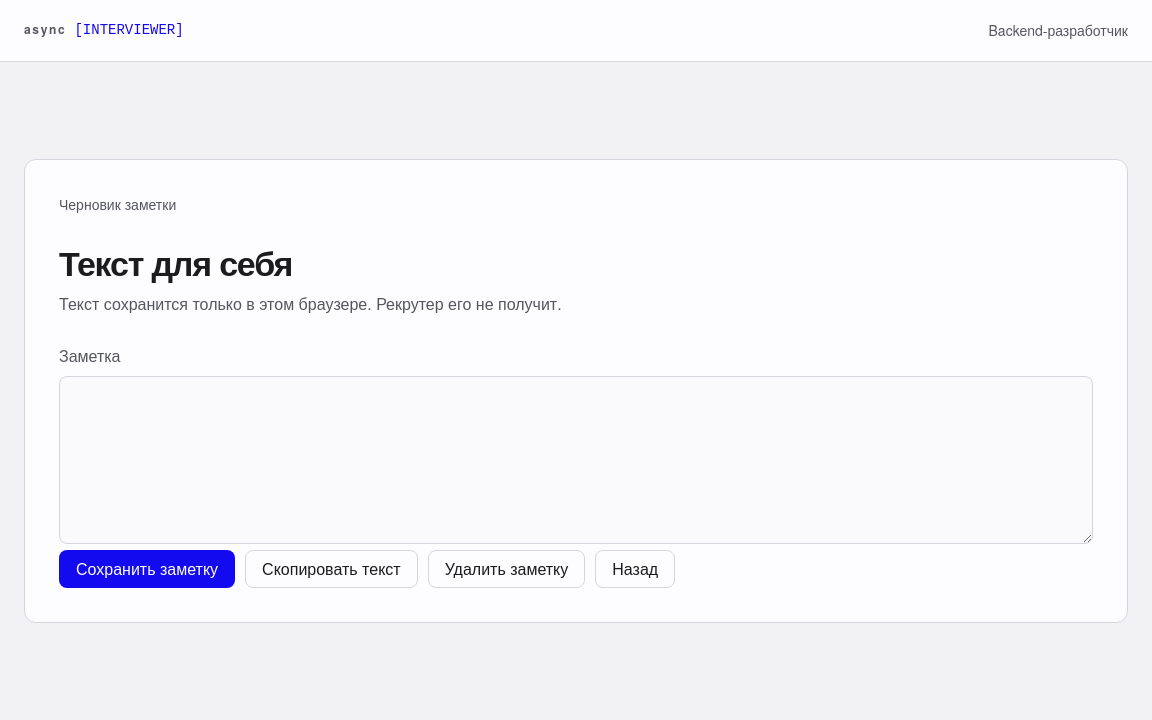
Scenario: RequestPage › saves a local note and does not promise delivery to a recruiter
Expected: the text "Черновик заметки" is shown, left=59, top=194, right=176, bottom=214
Expected: the text "Текст сохранится только в этом браузере. Рекрутер его не получит" is shown, left=59, top=292, right=562, bottom=314
In the text box: {"x": 576, "y": 460} left=59, top=376, right=1093, bottom=544, type "Нужно уточнить время"
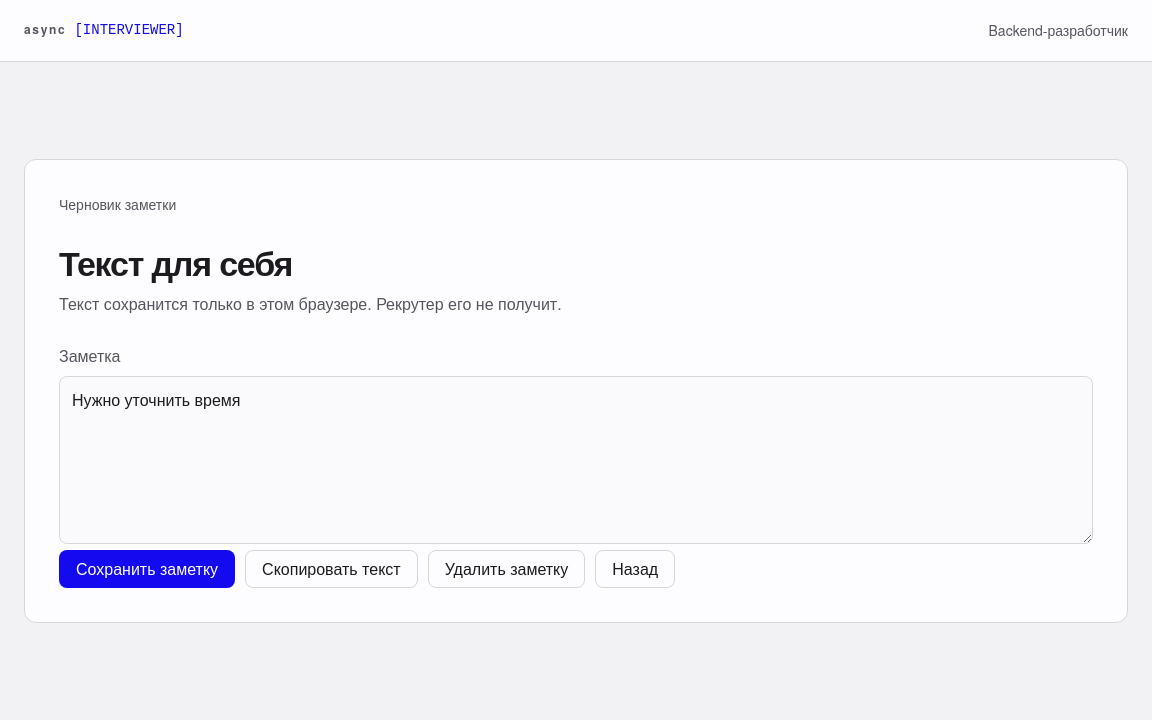
Click the button "Сохранить заметку": {"x": 147, "y": 568} left=59, top=550, right=235, bottom=588
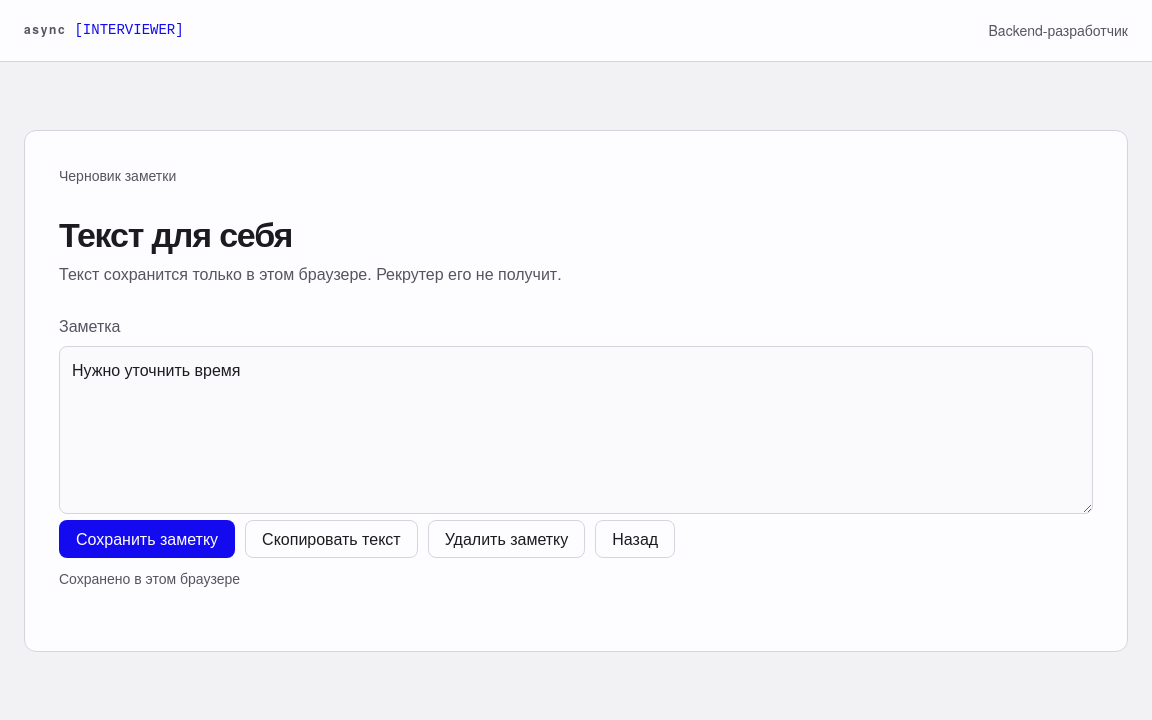
Expected: the text "Сохранено в этом браузере" is shown, left=59, top=568, right=240, bottom=588
